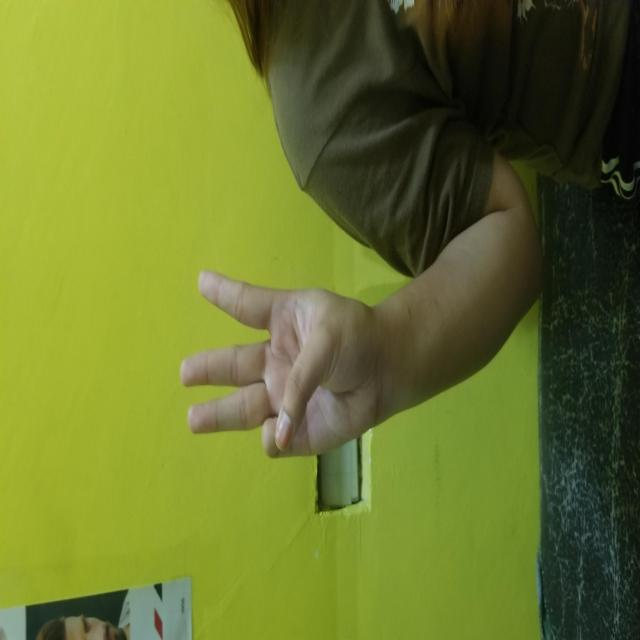W: (180, 179, 372, 374)
